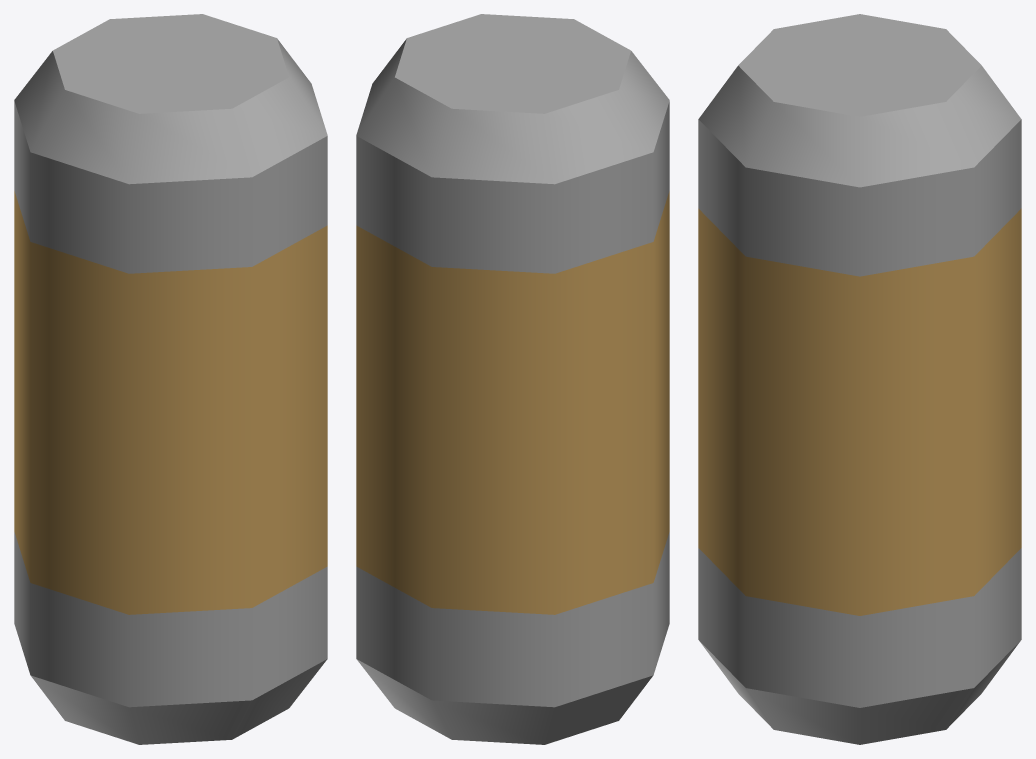
Rendered from Beer_can.fbx.
The picture shows the model from 3 angles, left to right: view 1: azimuth 30°, elevation 25°; view 2: azimuth 150°, elevation 25°; view 3: azimuth 270°, elevation 25°; orthographic projection.
Visible parts, largest first — view 1: pCylinder289; view 2: pCylinder289; view 3: pCylinder289.
Boxes of the visible parts, x1,y1,x2,y2 form: pCylinder289: (14,14,327,744); pCylinder289: (356,14,669,744); pCylinder289: (698,14,1021,744).
Bounding box in the file's own units: 10.16 × 21.78 × 10.16.
